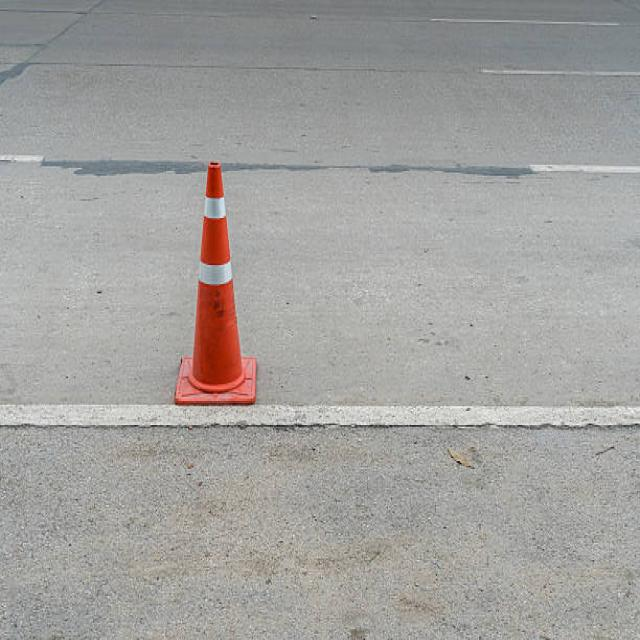Traffic Cone: (162, 145, 273, 420)
